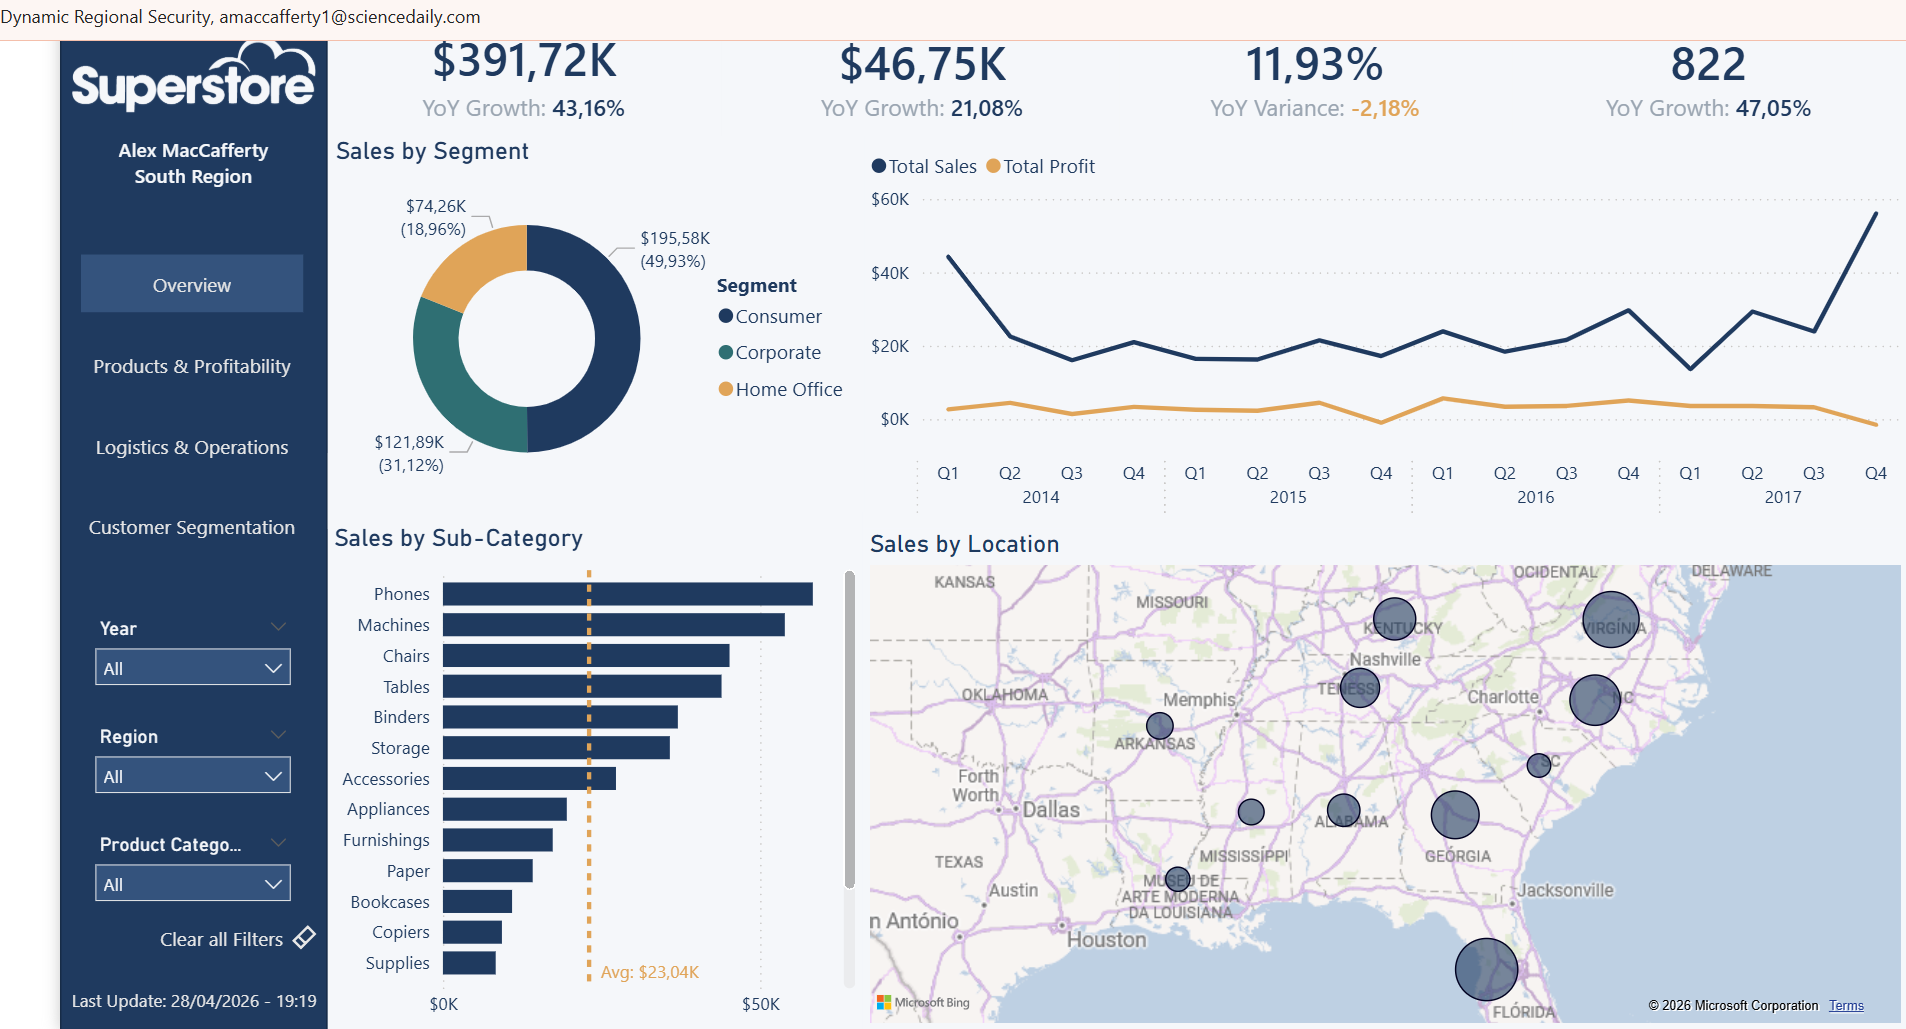

What the dashboard file says about the page in this screenshot:
{"tool":"powerbi","page":{"name":"Overview","canvas":[1280,720],"ordinal":0},"visuals":[{"type":"cardVisual","title":"Total Sales","fields":{"Data":["_Measures.Total Sales"]},"box":[185.4,0,273,127.5],"z":0},{"type":"cardVisual","fields":{"Data":["_Measures.Total Orders"]},"box":[1006.6,0,273.9,127.8],"z":1000},{"type":"cardVisual","fields":{"Data":["_Measures.Profit Margin %"]},"box":[733.9,0,272.6,127.8],"z":2000},{"type":"cardVisual","fields":{"Data":["_Measures.Total Profit"]},"box":[461.3,0,272.6,127.8],"z":3000},{"type":"lineChart","title":"Total Sales and Profit by Year","fields":{"Y":["_Measures.Total Sales","_Measures.Total Profit"],"Category":["dim_order_dates.Order Date Hierarchy.Year","dim_order_dates.Order Date Hierarchy.Quarter","dim_order_dates.Order Date Hierarchy.Month Name"]},"box":[556.2,99.7,724.2,272.3],"z":4000},{"type":"clusteredBarChart","title":"Sales by Sub-Category","fields":{"Y":["_Measures.Total Sales"],"Category":["dim_products.Sub-Category"]},"box":[185.4,368.5,370.8,351.1],"z":5000},{"type":"map","title":"Sales by Location","fields":{"Size":["_Measures.Total Sales"],"Category":["dim_geo_ship.Country","dim_geo_ship.State","dim_geo_ship.City Search String"]},"box":[556.2,372,724.2,347.6],"z":6000},{"type":"shape","box":[0,0,185.4,719.6],"z":7000},{"type":"donutChart","title":"Sales by Segment","fields":{"Category":["dim_customers.Segment"],"Y":["_Measures.Total Sales"]},"box":[186,99.8,371.1,260.9],"z":8000},{"type":"slicer","fields":{"Values":["dim_geo_ship.Region"]},"box":[14.6,503.3,155.3,60],"z":9000},{"type":"slicer","fields":{"Values":["dim_shipping_dates.Year"]},"box":[14.6,428.3,155.3,60],"z":10000},{"type":"slicer","fields":{"Values":["dim_products.Category"]},"box":[14.6,578.3,155.3,60],"z":11000},{"type":"image","box":[8.3,11.4,169.4,90.4],"z":12000},{"type":"cardVisual","fields":{"Data":["_Measures.Active User Territory"]},"box":[0,88.4,185,56.1],"z":13000},{"type":"actionButton","box":[65.5,641.4,119.5,28.1],"z":14000},{"type":"pageNavigator","box":[14.6,181.9,154.9,208.9],"z":15000},{"type":"cardVisual","fields":{"Data":["_Measures.Data Vintage"]},"box":[0,675.7,186.1,44.7],"z":16000}]}

Visuals, with their boxes on the page's 1280x720 design canvas (x1, y1, x2, y2). These are canvas units, not pixel positions in the 1906x1029 screenshot, which may show the page scaled, cropped or inside an application window:
"Total Sales" cardVisual: 185 0 458 128
cardVisual - _Measures.Total Orders: 1007 0 1280 128
cardVisual - _Measures.Profit Margin %: 734 0 1006 128
cardVisual - _Measures.Total Profit: 461 0 734 128
"Total Sales and Profit by Year" lineChart: 556 100 1280 372
"Sales by Sub-Category" clusteredBarChart: 185 368 556 720
"Sales by Location" map: 556 372 1280 720
shape: 0 0 185 720
"Sales by Segment" donutChart: 186 100 557 361
slicer - dim_geo_ship.Region: 15 503 170 563
slicer - dim_shipping_dates.Year: 15 428 170 488
slicer - dim_products.Category: 15 578 170 638
image: 8 11 178 102
cardVisual - _Measures.Active User Territory: 0 88 185 144
actionButton: 66 641 185 670
pageNavigator: 15 182 170 391
cardVisual - _Measures.Data Vintage: 0 676 186 720
